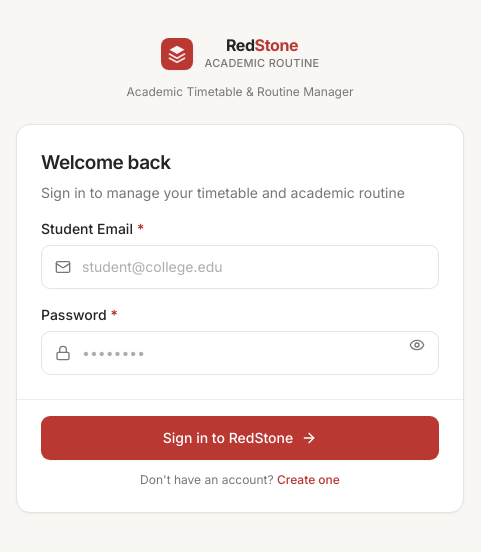
Test case: LoginPage — form validation › shows errors when submitting empty form
Click the button "Sign in to RedStone": (240, 438) [41,416,439,460]
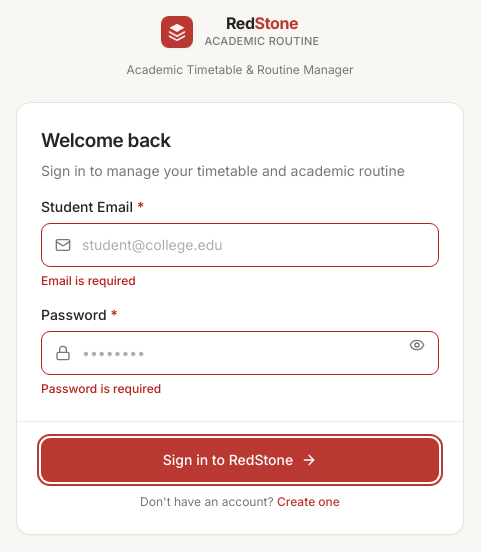
Now the text "Email is required" is shown, box [41,273,136,288]
Now the text "Password is required" is shown, box [41,381,161,396]
